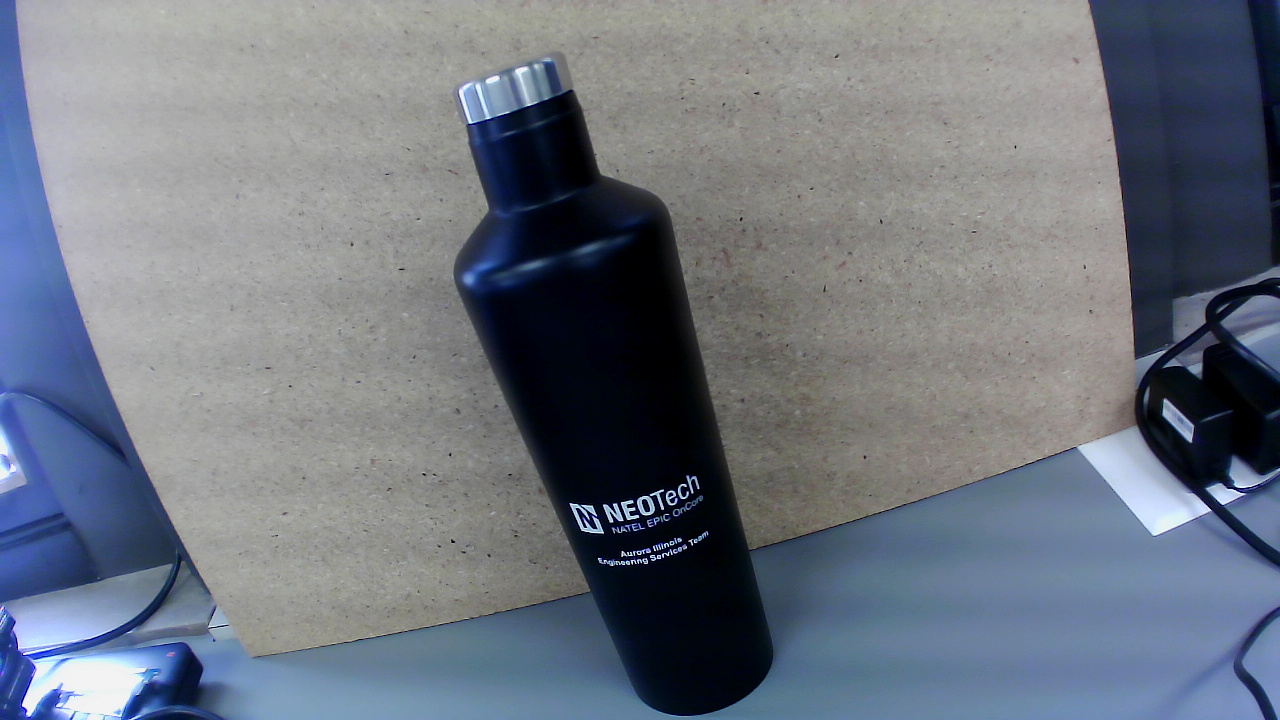neobottle: (435, 39, 789, 719)
